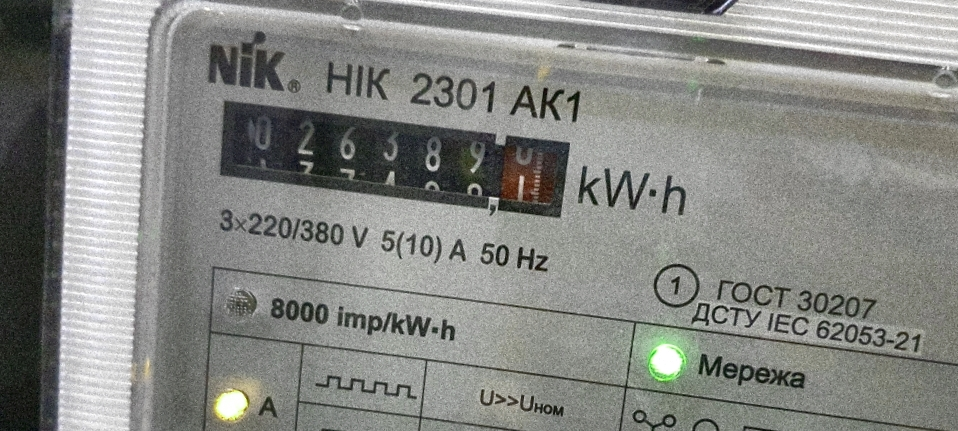0: (248, 110, 277, 152), (512, 143, 534, 166)
1: (511, 170, 529, 203)
2: (292, 116, 321, 158)
3: (379, 127, 401, 164)
6: (336, 121, 359, 162)
8: (420, 133, 446, 174)
9: (464, 138, 487, 174)
screen: (198, 79, 588, 237)
